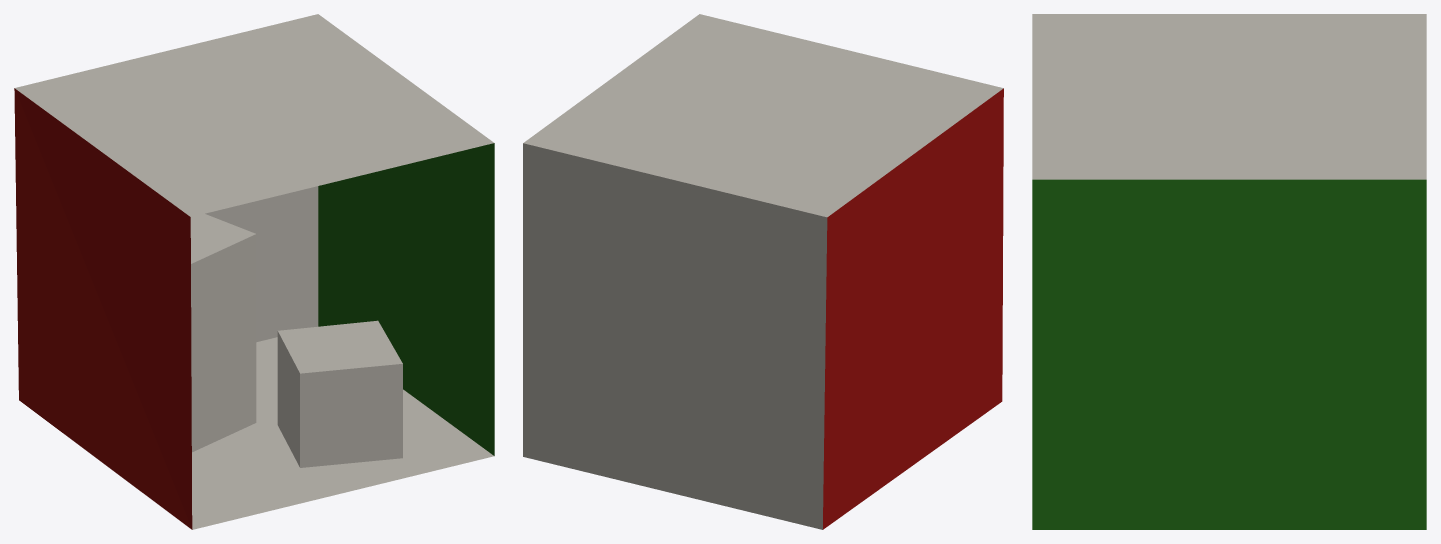
File: CornellBox.glb
3 renders of one model, left to right at view 1: azimuth 30°, elevation 25°; view 2: azimuth 150°, elevation 25°; view 3: azimuth 270°, elevation 25°, orthographic. The views are drawn at different scales.
Parts seen in each view (by area): view 1: leftWall, ceiling, rightWall, floor, shortBox, tallBox, backWall; view 2: backWall, leftWall, ceiling; view 3: rightWall, ceiling.
Part boxes in pixels (left/top/right/bottom): leftWall: left=14, top=88, right=192, bottom=529; ceiling: left=15, top=14, right=493, bottom=216; rightWall: left=318, top=143, right=494, bottom=455; floor: left=192, top=337, right=493, bottom=529; shortBox: left=277, top=320, right=402, bottom=467; tallBox: left=190, top=213, right=256, bottom=452; backWall: left=205, top=186, right=318, bottom=342; backWall: left=523, top=143, right=827, bottom=529; leftWall: left=823, top=88, right=1003, bottom=529; ceiling: left=523, top=14, right=1003, bottom=217; rightWall: left=1032, top=179, right=1426, bottom=529; ceiling: left=1032, top=14, right=1426, bottom=179.
Bounding box in the file's own units: 2.02 × 1.99 × 2.03.
